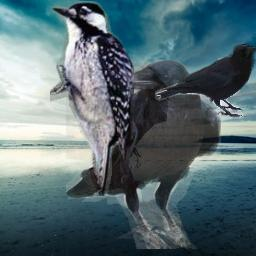Crow: (66, 59, 221, 249), (155, 44, 256, 119)
Woodpecker: (50, 1, 134, 196)
